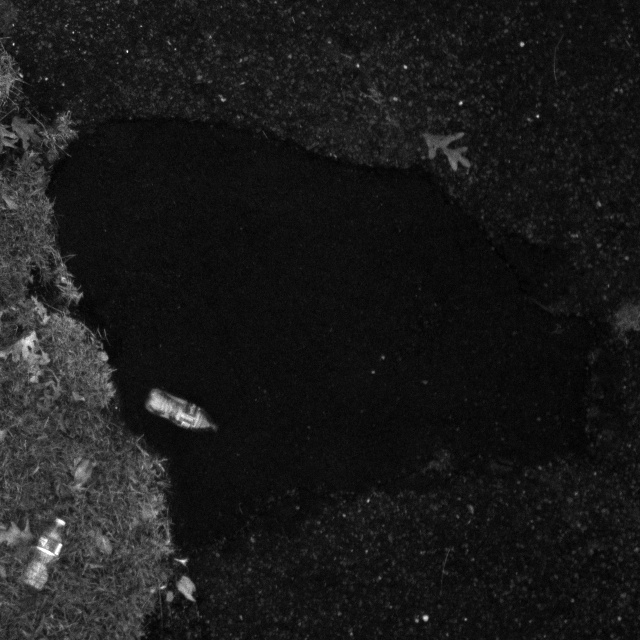bottle: (138, 381, 222, 436)
